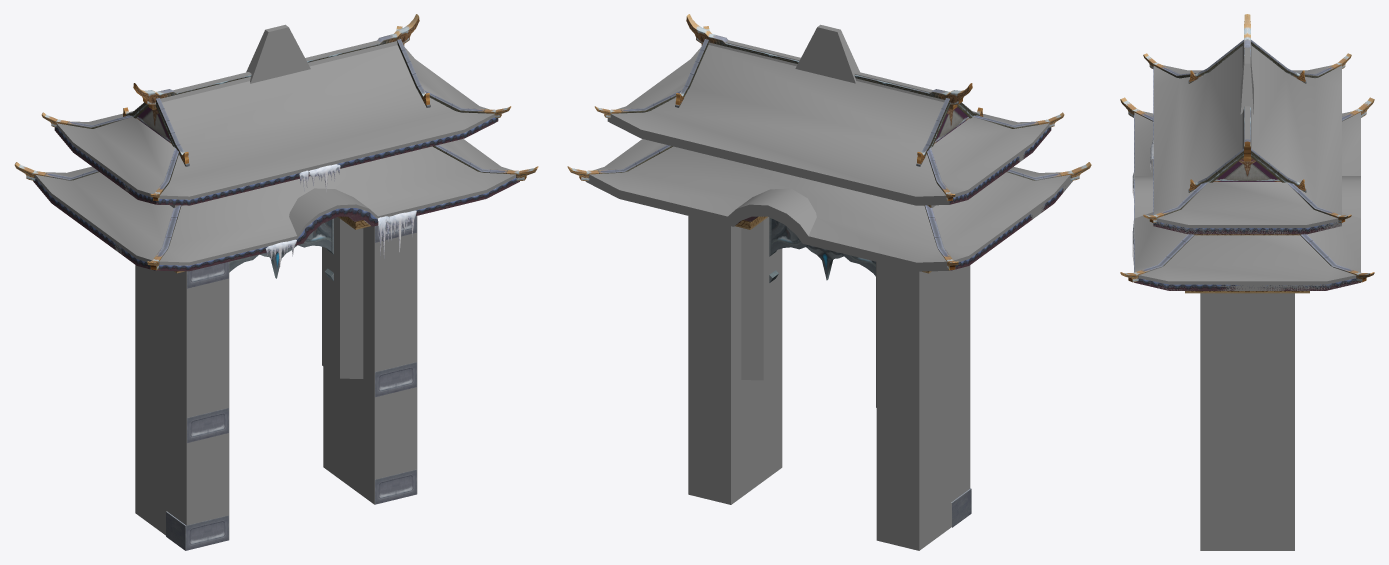
File: Scene_Build_TianShan_DaMen_2.FBX
The picture shows the model from 3 angles, left to right: view 1: azimuth 30°, elevation 25°; view 2: azimuth 150°, elevation 25°; view 3: azimuth 270°, elevation 25°; orthographic projection. The views are drawn at different scales.
Parts seen in each view (by area): view 1: Scene_Build_TianShan_DaMen_2_Xzm, Scene_Build_TianShan_DaMen_2c, Scene_Build_TianShan_DaMen_2a, Scene_Build_TianShan_DaMen_2b; view 2: Scene_Build_TianShan_DaMen_2_Xzm, Scene_Build_TianShan_DaMen_2a, Scene_Build_TianShan_DaMen_2b; view 3: Scene_Build_TianShan_DaMen_2_Xzm, Scene_Build_TianShan_DaMen_2a, Scene_Build_TianShan_DaMen_2b.
Part boxes in pixels (x1,y1,x2,y2): Scene_Build_TianShan_DaMen_2_Xzm: [35, 24, 515, 539]; Scene_Build_TianShan_DaMen_2c: [166, 164, 416, 550]; Scene_Build_TianShan_DaMen_2a: [14, 14, 538, 280]; Scene_Build_TianShan_DaMen_2b: [33, 117, 519, 271]; Scene_Build_TianShan_DaMen_2_Xzm: [585, 24, 1072, 550]; Scene_Build_TianShan_DaMen_2a: [567, 14, 1091, 282]; Scene_Build_TianShan_DaMen_2b: [735, 127, 1065, 270]; Scene_Build_TianShan_DaMen_2_Xzm: [1134, 42, 1360, 550]; Scene_Build_TianShan_DaMen_2a: [1120, 14, 1374, 293]; Scene_Build_TianShan_DaMen_2b: [1134, 69, 1360, 290].
Bounding box in the file's own units: 1544 × 1792 × 940.
